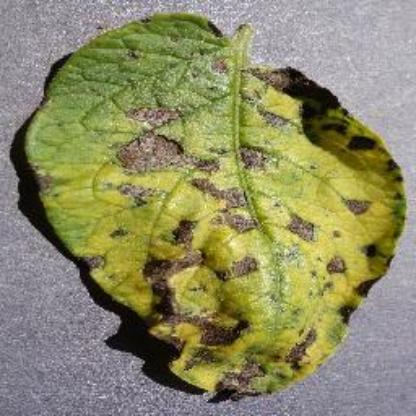Early-Blight: (17, 1, 416, 406)
